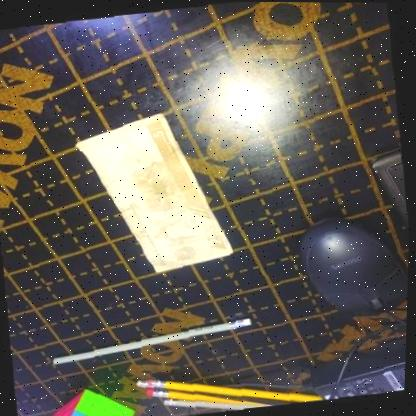five-back-vef: (69, 104, 239, 279)
